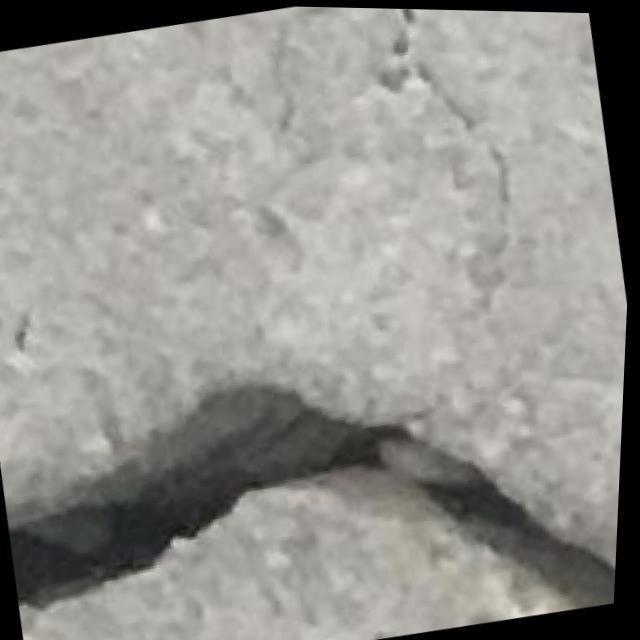Crack: (0, 301, 629, 640)
